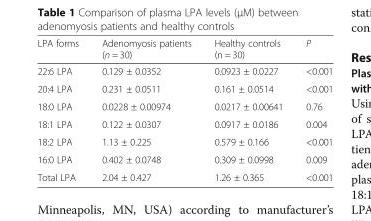table: (36, 37, 332, 182)
table column: (89, 37, 202, 182), (202, 37, 293, 182), (36, 37, 89, 182), (293, 37, 332, 182)
table column header: (36, 37, 332, 62)
table row: (36, 37, 332, 62), (36, 79, 332, 97), (36, 114, 332, 132), (36, 132, 332, 150), (36, 150, 332, 168), (36, 62, 332, 79), (36, 97, 332, 114), (36, 168, 332, 182)
